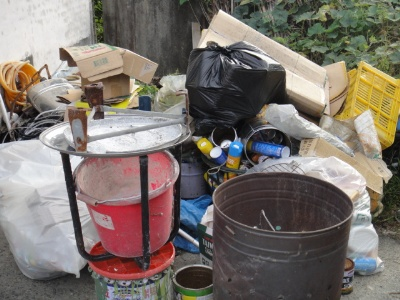bucket: (75, 149, 178, 257)
plastic_bag: (185, 39, 290, 138)
plate: (37, 109, 191, 155)
